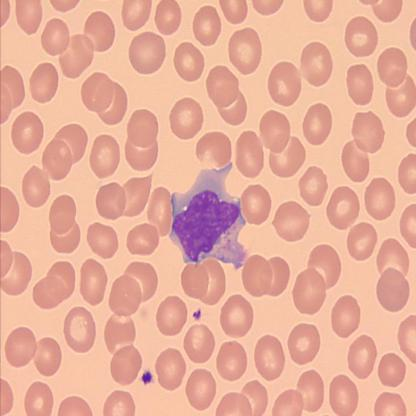Atypical lymphocyte: (172, 165, 252, 271)
